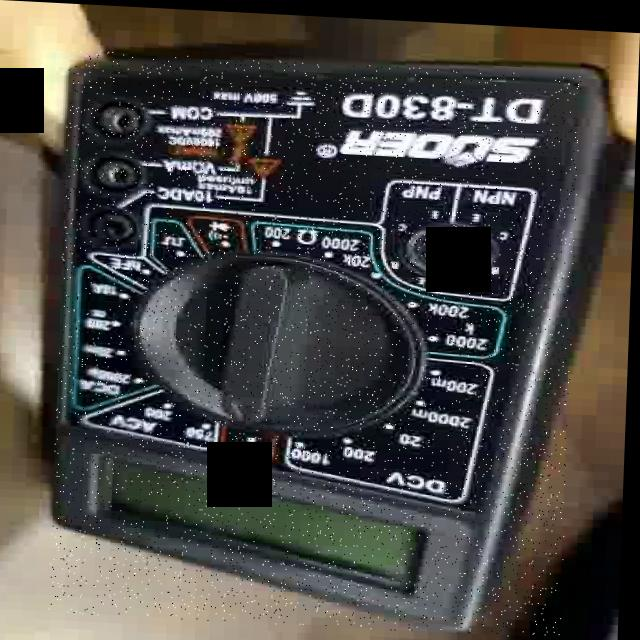multimeter: (54, 49, 582, 633)
